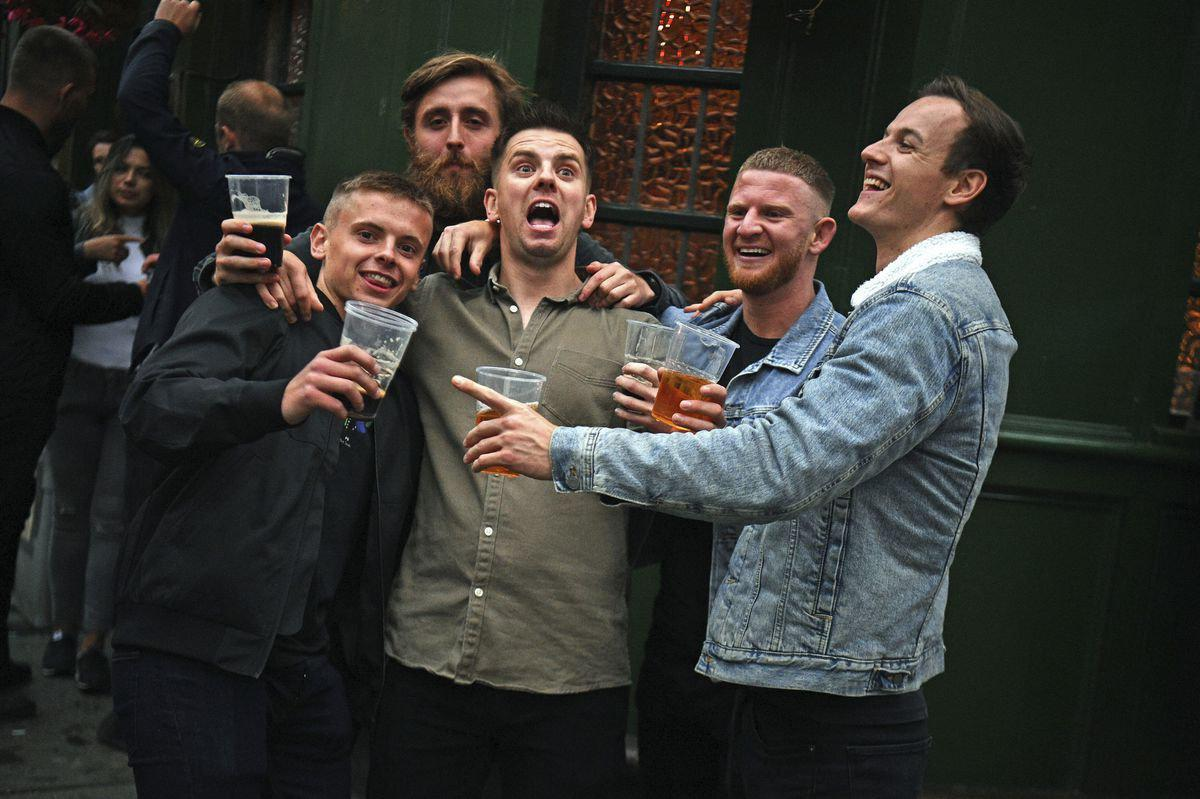Drunk: (853, 115, 971, 230), (722, 174, 811, 293), (417, 72, 500, 196), (506, 132, 590, 254), (337, 187, 420, 309)
